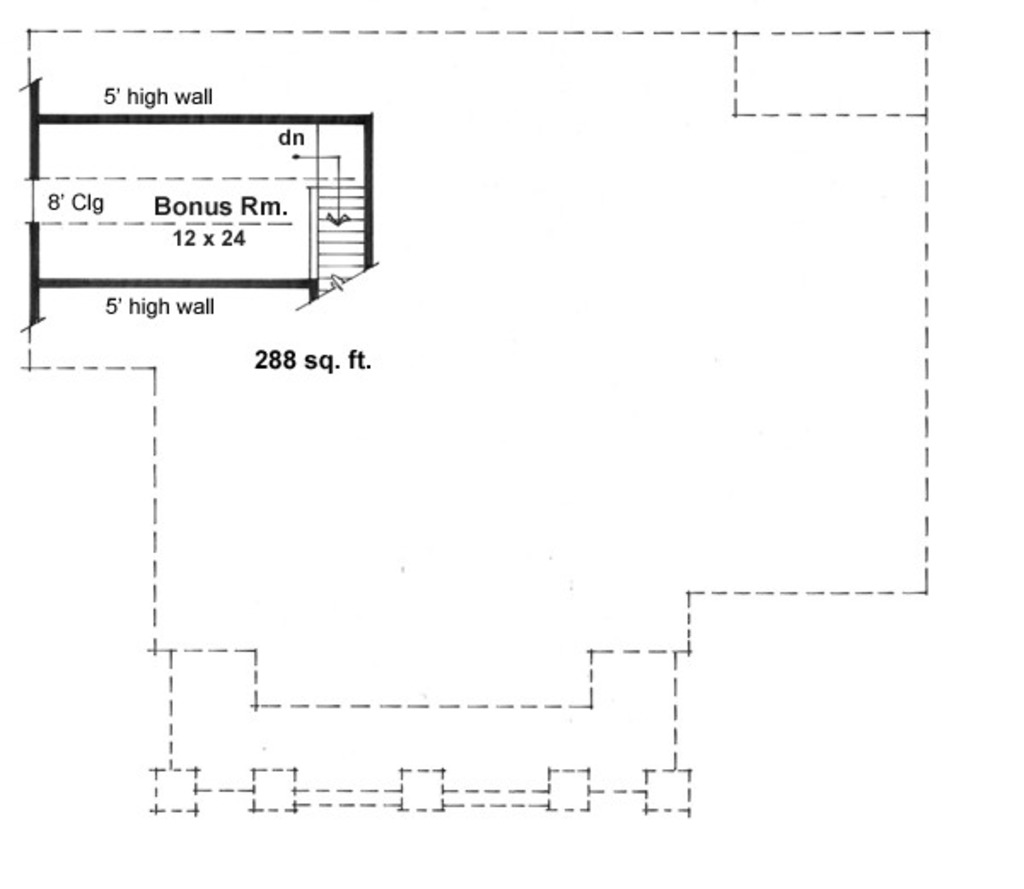stairs: (277, 131, 386, 320)
